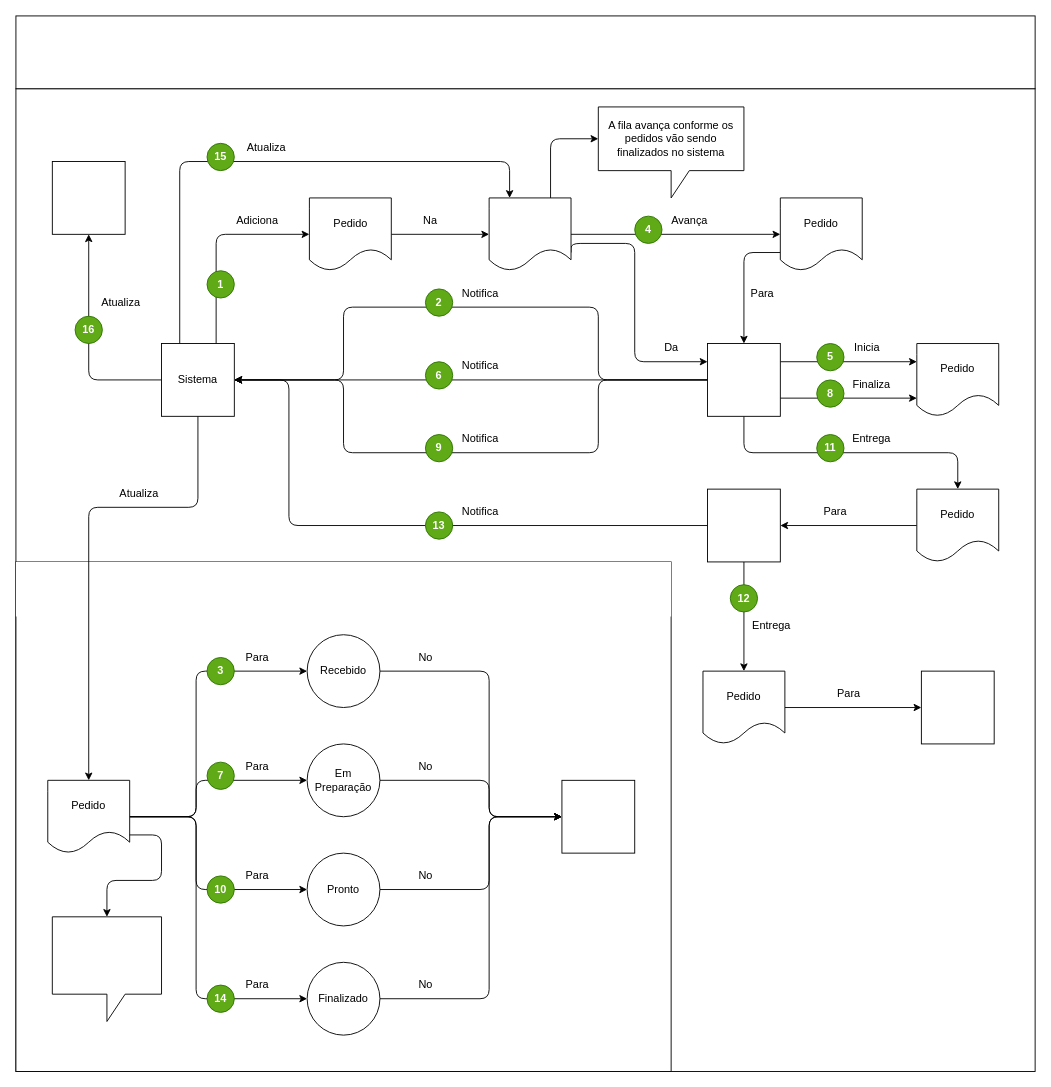
This 1051x1087 diagram has some shape labels left out. The centre of each missing label's shape, as x and y in pixels:
"Atendente" goes at point (743, 525).
"Cliente" goes at point (957, 707).
"Cozinha" goes at point (743, 379).
"Fila" goes at point (529, 234).
"Inventário" goes at point (88, 197).
"Monitor de pedidos" goes at point (598, 816).
"Monitoring Group" goes at point (343, 588).
"Nesse ponto, o pedido será atualizaddo e enviado ao monitor" goes at point (106, 968).
"Preparation Flow" goes at point (525, 52).
